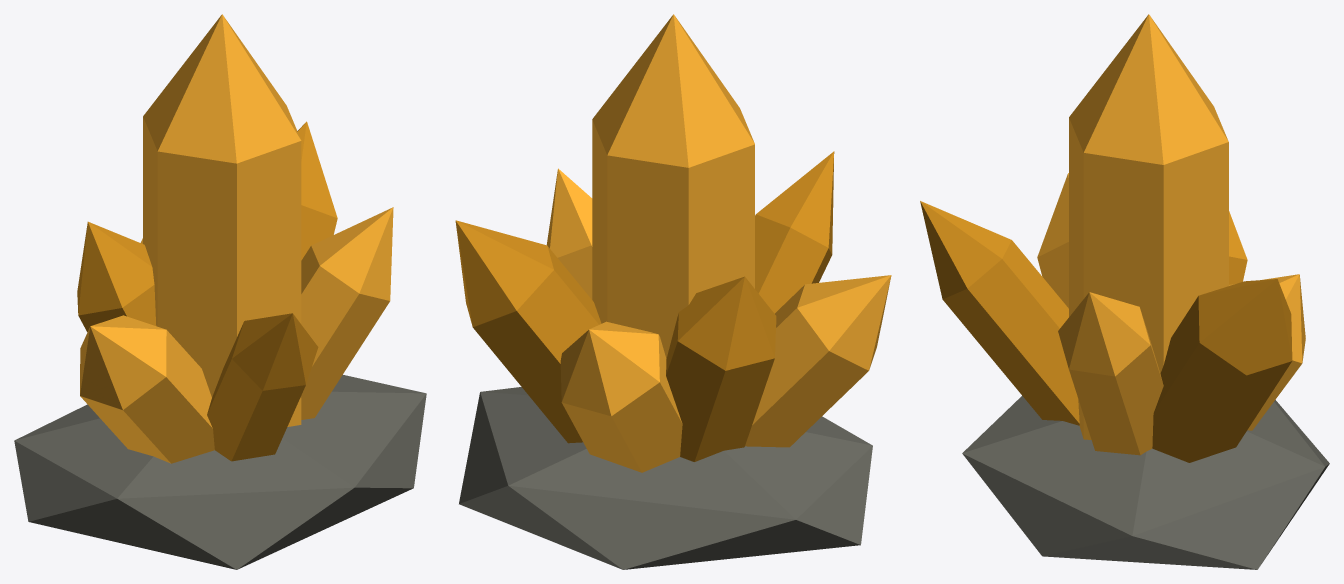
File: TopazCrystals.fbx
3 renders of one model, left to right at view 1: azimuth 30°, elevation 25°; view 2: azimuth 150°, elevation 25°; view 3: azimuth 270°, elevation 25°, orthographic. The views are drawn at different scales.
Visible parts, largest first — view 1: TopazCrystals; view 2: TopazCrystals; view 3: TopazCrystals.
Boxes of the visible parts, bbox=[...] form: TopazCrystals: bbox=[14, 14, 426, 569]; TopazCrystals: bbox=[455, 14, 891, 569]; TopazCrystals: bbox=[920, 14, 1329, 569].
Size of the model in its own units: 2.63 by 3.29 by 2.41.
1 material, 1 textured.
